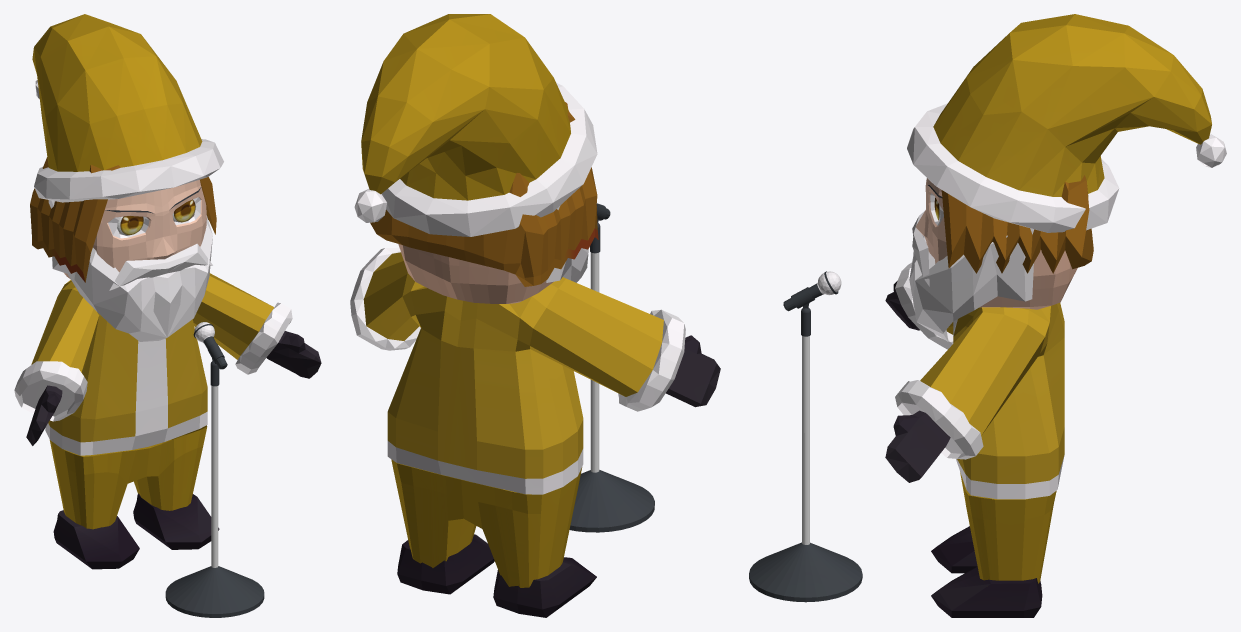
File: santa_k2.glb
The picture shows the model from 3 angles, left to right: view 1: azimuth 30°, elevation 25°; view 2: azimuth 150°, elevation 25°; view 3: azimuth 270°, elevation 25°; orthographic projection. The views are drawn at different scales.
Parts seen in each view (by area): view 1: hontai-k, boushi-k, zubon-k, hige-k, kao-k, stand, kami-k, kutu-r-k, kutu-l-k, hanahige-k, maiku, me-r-k; view 2: hontai-k, boushi-k, zubon-k, kami-k, stand, kao-k, kutu-r-k, kutu-l-k, hige-k; view 3: boushi-k, hontai-k, stand, kami-k, hige-k, zubon-k, kutu-l-k, kao-k, kutu-r-k, maiku, hanahige-k.
Boxes of the visible parts, left/top/right/bottom form: hontai-k: left=14, top=273, right=321, bottom=455; boushi-k: left=32, top=14, right=223, bottom=202; zubon-k: left=49, top=425, right=207, bottom=529; hige-k: left=48, top=200, right=212, bottom=341; kao-k: left=64, top=180, right=206, bottom=279; stand: left=165, top=361, right=264, bottom=617; kami-k: left=30, top=157, right=216, bottom=282; kutu-r-k: left=53, top=510, right=139, bottom=569; kutu-l-k: left=133, top=493, right=219, bottom=549; hanahige-k: left=109, top=243, right=212, bottom=290; maiku: left=194, top=322, right=227, bottom=369; me-r-k: left=117, top=216, right=144, bottom=235; hontai-k: left=350, top=247, right=720, bottom=494; boushi-k: left=354, top=14, right=597, bottom=236; zubon-k: left=391, top=459, right=582, bottom=587; kami-k: left=370, top=102, right=598, bottom=286; stand: left=569, top=222, right=654, bottom=532; kao-k: left=398, top=244, right=553, bottom=303; kutu-r-k: left=493, top=557, right=596, bottom=617; kutu-l-k: left=397, top=534, right=494, bottom=594; hige-k: left=546, top=205, right=588, bottom=282; boushi-k: left=907, top=14, right=1226, bottom=232; hontai-k: left=885, top=262, right=1064, bottom=499; stand: left=749, top=307, right=862, bottom=602; kami-k: left=941, top=175, right=1093, bottom=273; hige-k: left=909, top=228, right=1033, bottom=341; zubon-k: left=960, top=472, right=1056, bottom=583; kutu-l-k: left=931, top=566, right=1042, bottom=617; kao-k: left=915, top=178, right=1077, bottom=309; kutu-r-k: left=931, top=526, right=977, bottom=573; maiku: left=783, top=271, right=841, bottom=311; hanahige-k: left=912, top=211, right=929, bottom=286.
Bounding box in the file's own units: 5.42 × 8.99 × 6.93.
17 materials, 16 textured.
